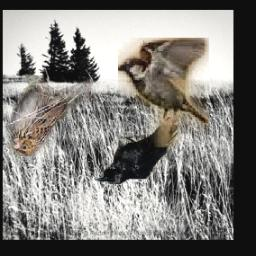Crow: (94, 123, 178, 184)
Sparrow: (119, 38, 210, 147), (8, 75, 94, 156)
